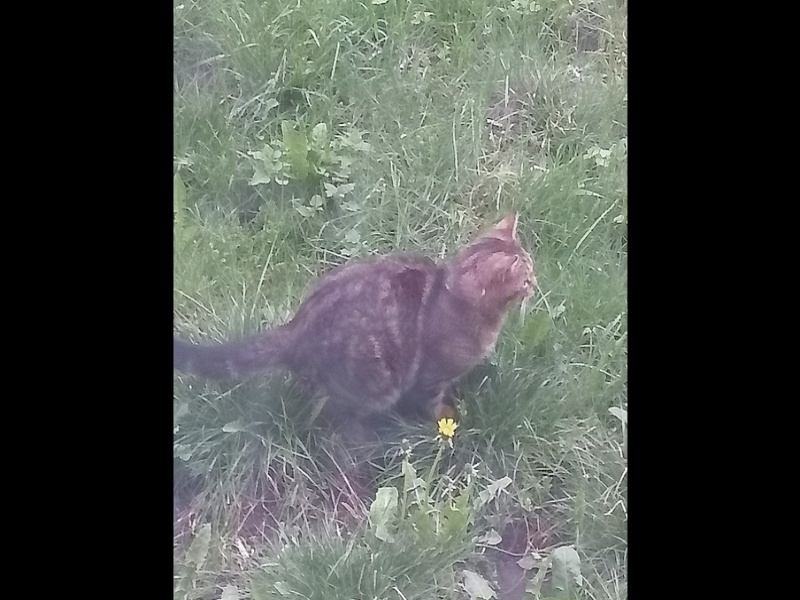cat: (173, 209, 539, 440)
